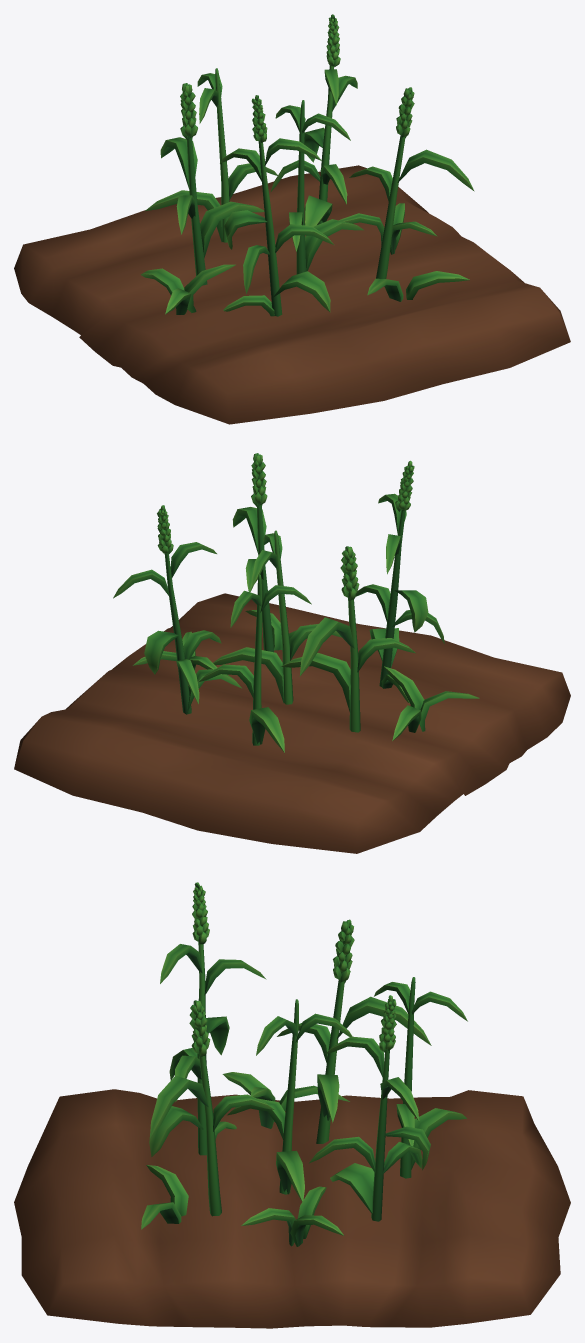
The model's file is SM_PlantSoil_Wheat_Lv2.fbx.
The picture shows the model from 3 angles, top to bottom: view 1: azimuth 30°, elevation 25°; view 2: azimuth 150°, elevation 25°; view 3: azimuth 270°, elevation 25°; orthographic projection. The views are drawn at different scales.
Parts seen in each view (by area): view 1: SM_PlantSoil_Wheat_Lv2; view 2: SM_PlantSoil_Wheat_Lv2; view 3: SM_PlantSoil_Wheat_Lv2.
Part boxes in pixels (x1,y1,x2,y2): SM_PlantSoil_Wheat_Lv2: (14, 14, 570, 424); SM_PlantSoil_Wheat_Lv2: (14, 453, 570, 853); SM_PlantSoil_Wheat_Lv2: (14, 882, 570, 1328).
Size of the model in its own units: 96.14 by 62.11 by 103.
